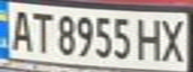5: (90, 12, 115, 60), (112, 14, 136, 61)
8: (54, 11, 75, 56)
9: (72, 12, 96, 59)
A: (6, 6, 36, 52)
H: (133, 15, 166, 62)
T: (27, 8, 54, 54)
X: (157, 15, 190, 63)
